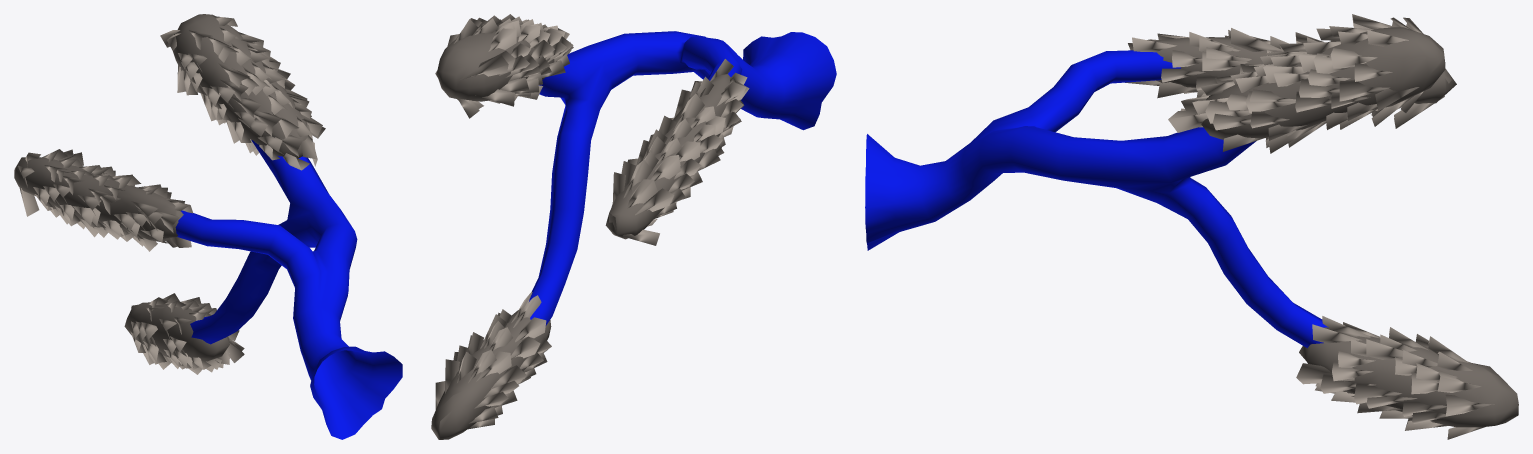
Rendered from SMFol_VolcanicFlats_Groundsel.fbx.
3 views of the same model, side by side, from view 1: azimuth 30°, elevation 25°; view 2: azimuth 150°, elevation 25°; view 3: azimuth 270°, elevation 25° (orthographic). The views are drawn at different scales.
Parts seen in each view (by area): view 1: SM_Groundsel; view 2: SM_Groundsel; view 3: SM_Groundsel.
Part boxes in pixels (left/top/right/bottom): SM_Groundsel: left=14, top=14, right=402, bottom=439; SM_Groundsel: left=431, top=14, right=836, bottom=439; SM_Groundsel: left=865, top=14, right=1518, bottom=439.
Size of the model in its own units: 613 by 897 by 1267.
